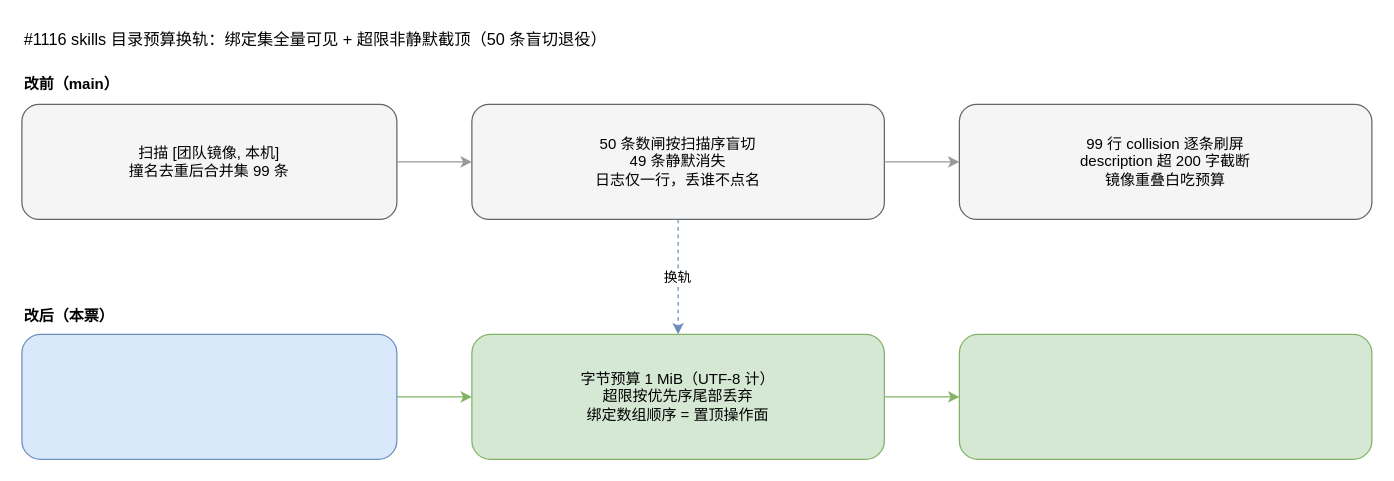
The diagram is 1394 pixels wide and 481 high, and some of its shapes have lost their labels. The box of each missing label's shape, as (x1, y1, x2, y2) in pixels:
budget: 行点名丢谁 目录尾 omitted_skills 段 identical mirror 99 行 → 1 行: (958, 333, 1372, 459)
可见集 = 绑定集 allowlist ∩ #1106 注入选择 chief = 信任面全量: (21, 333, 397, 459)
